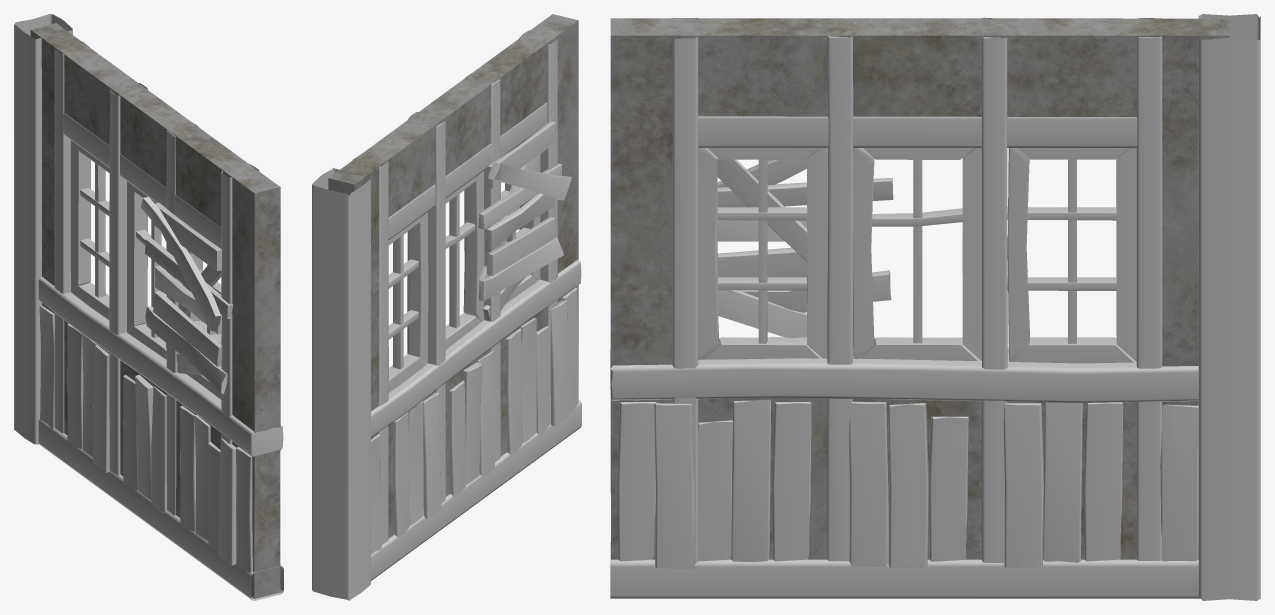
File: SM_WallWindowLarge01.fbx
3 renders of one model, left to right at view 1: azimuth 30°, elevation 25°; view 2: azimuth 150°, elevation 25°; view 3: azimuth 270°, elevation 25°, orthographic. The views are drawn at different scales.
Parts seen in each view (by area): view 1: SM_WallWindowLarge01_LOD0; view 2: SM_WallWindowLarge01_LOD0; view 3: SM_WallWindowLarge01_LOD0.
Boxes of the visible parts, x1,y1,x2,y2 form: SM_WallWindowLarge01_LOD0: [14, 14, 283, 600]; SM_WallWindowLarge01_LOD0: [312, 14, 581, 600]; SM_WallWindowLarge01_LOD0: [610, 14, 1260, 600].
Size of the model in its own units: 38.6 by 315 by 302.
